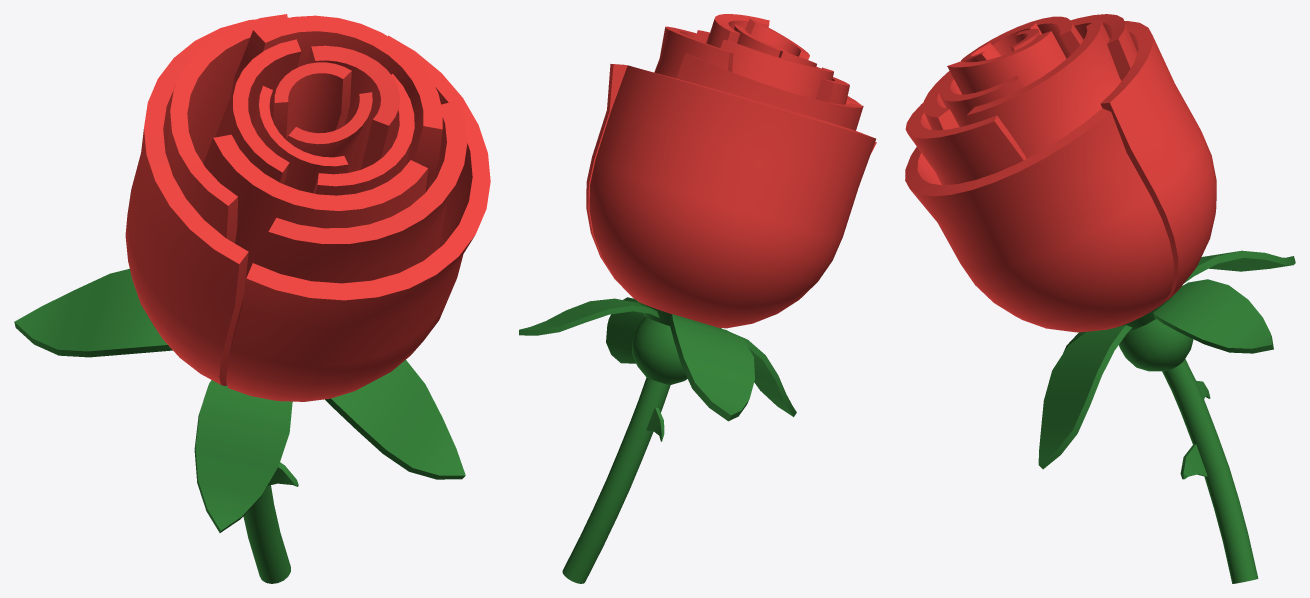
The model's file is rose.glb.
The picture shows the model from 3 angles, left to right: view 1: azimuth 30°, elevation 25°; view 2: azimuth 150°, elevation 25°; view 3: azimuth 270°, elevation 25°; orthographic projection. The views are drawn at different scales.
Parts seen in each view (by area): view 1: Circle.2030; view 2: Circle.2030; view 3: Circle.2030.
Part boxes in pixels (bbox=[...]): Circle.2030: bbox=[14, 14, 490, 583]; Circle.2030: bbox=[519, 14, 876, 583]; Circle.2030: bbox=[905, 14, 1295, 583].
Size of the model in its own units: 1.17 by 2.34 by 1.57.
Materials: 1 (1 with a texture image).
